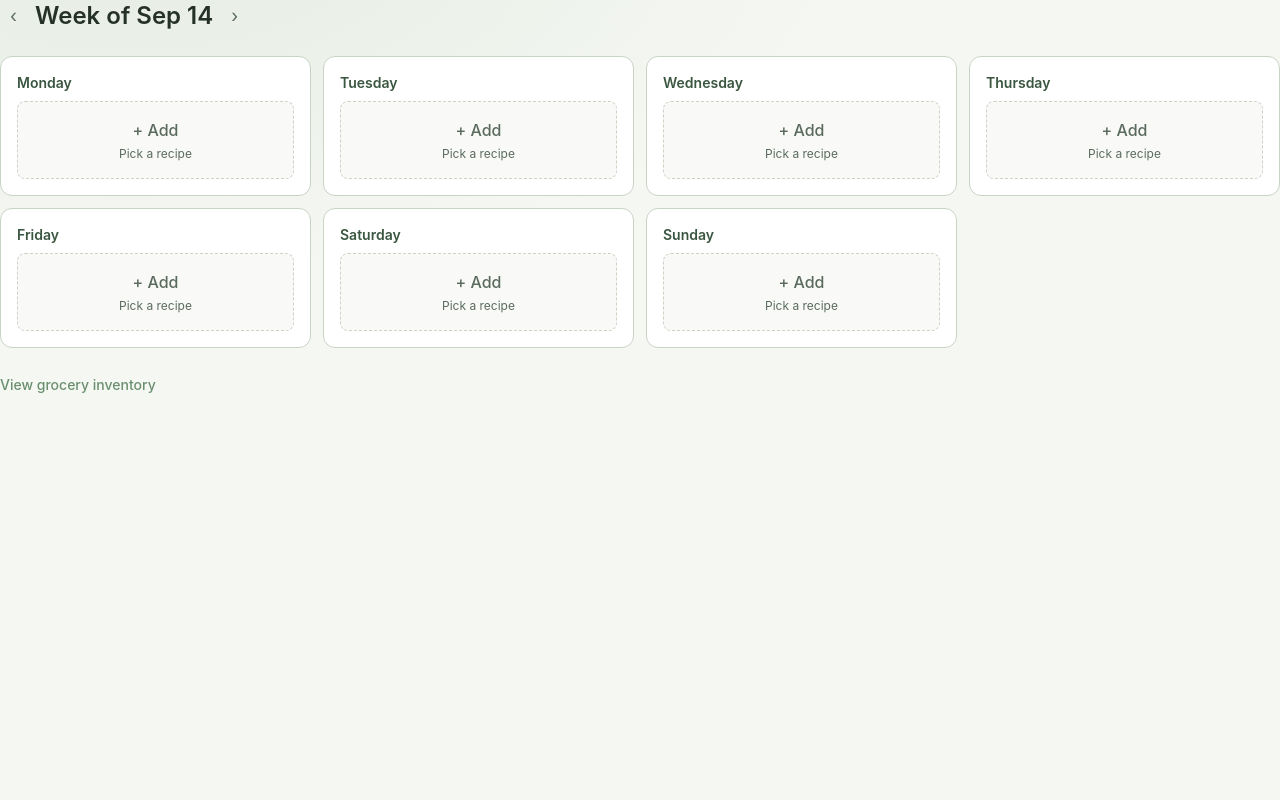
WeeklyBoardPage › adds a recipe to a day from the picker
Click the button "+ Add Pick a recipe" below "Monday" at (156, 140), box x1=17 y1=101 x2=294 y2=179
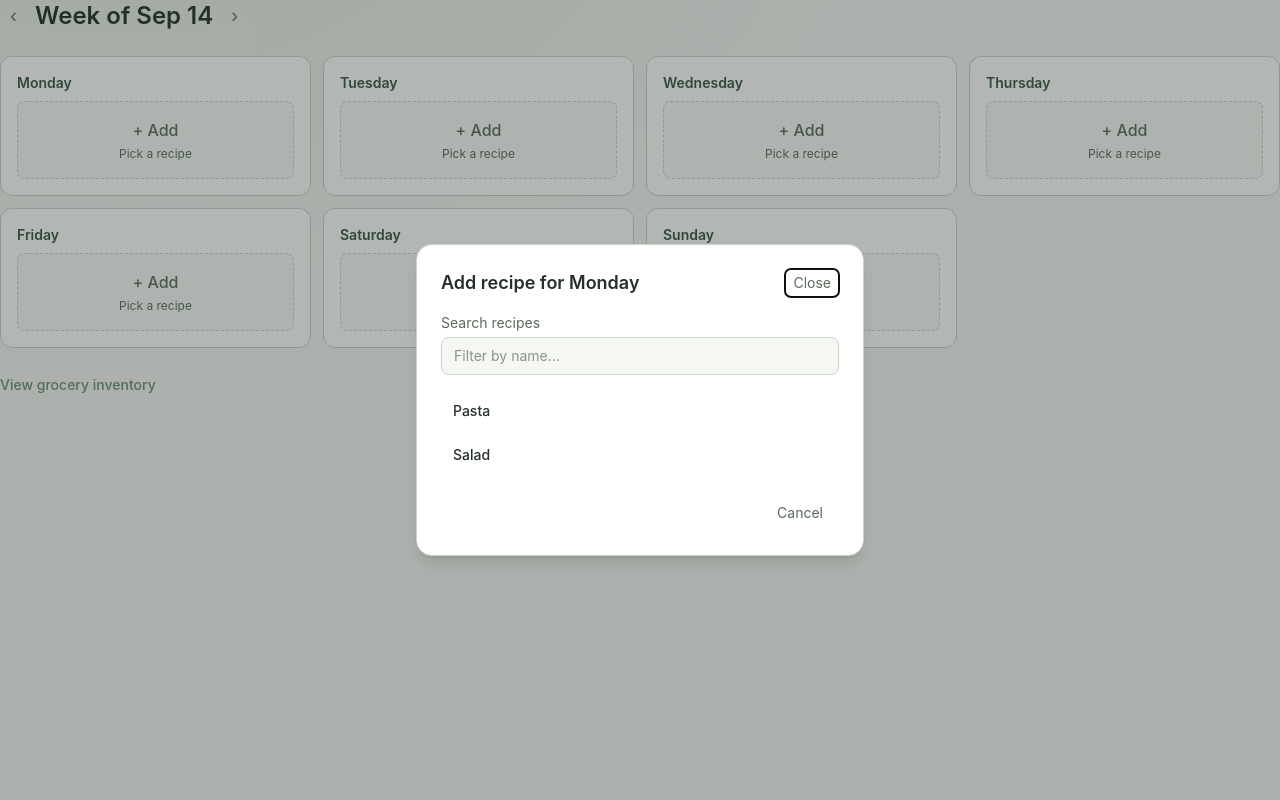
Check: the heading "Add recipe for Monday" is shown, box x1=441 y1=269 x2=640 y2=297
Click the button "Pasta" at (472, 410), box x1=441 y1=391 x2=839 y2=431
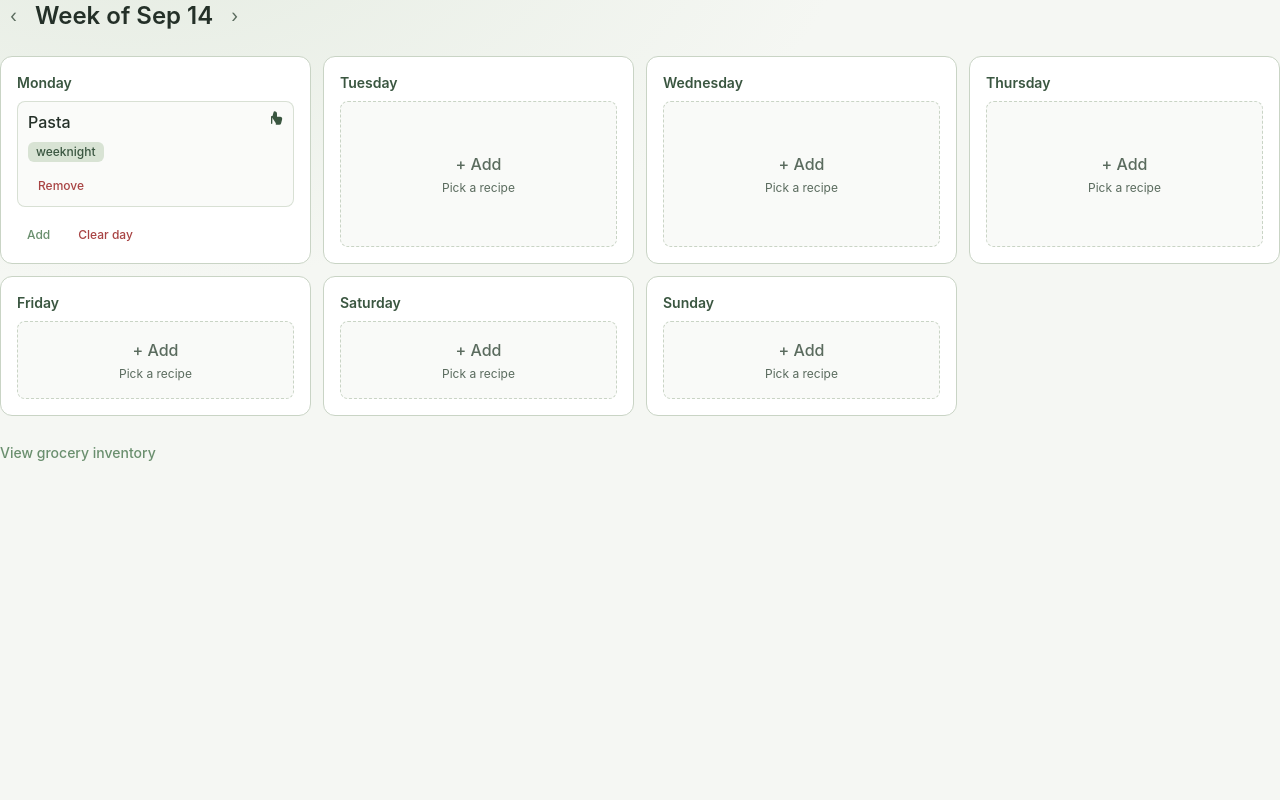
Check: the text "Pasta" is shown, box x1=28 y1=110 x2=70 y2=134
Check: the text "weeknight" is shown, box x1=28 y1=142 x2=104 y2=162
Check: the dialog is gone
